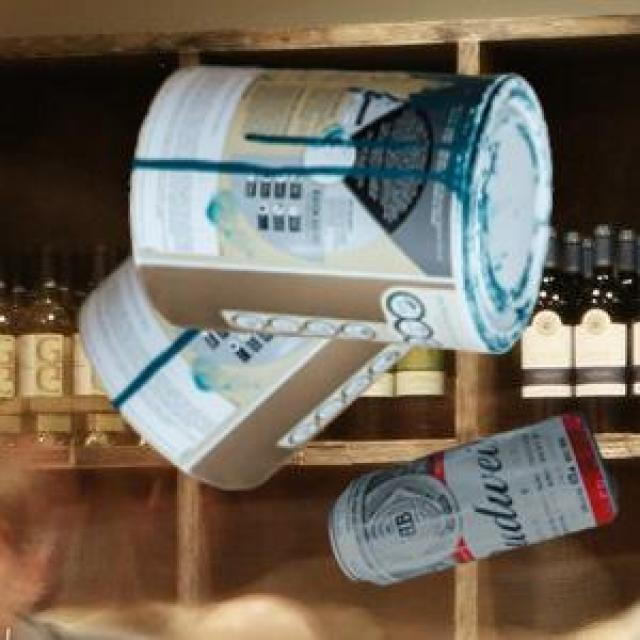logam: (127, 63, 549, 351), (76, 251, 413, 485), (325, 409, 613, 581)
